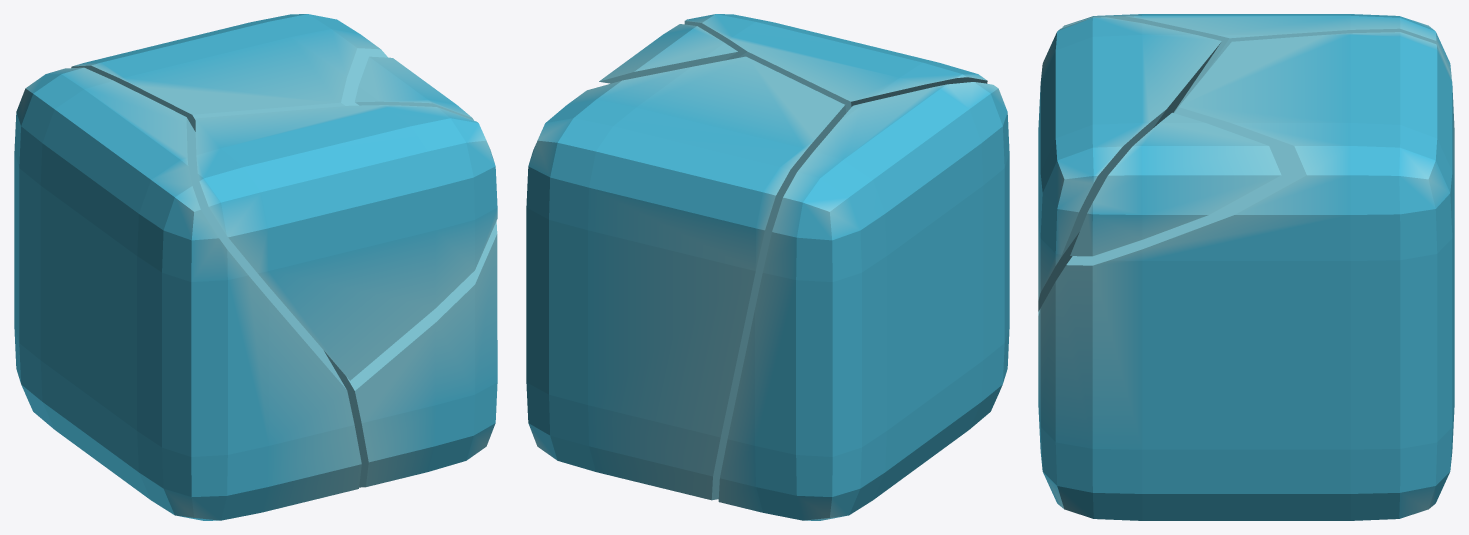
Rendered from iceCube3.fbx.
3 renders of one model, left to right at view 1: azimuth 30°, elevation 25°; view 2: azimuth 150°, elevation 25°; view 3: azimuth 270°, elevation 25°, orthographic. The views are drawn at different scales.
Parts seen in each view (by area): view 1: cube_80HP.001; view 2: cube_80HP.001; view 3: cube_80HP.001.
Part boxes in pixels (x1=…): cube_80HP.001: x1=14, y1=14, x2=497, y2=520; cube_80HP.001: x1=526, y1=14, x2=1009, y2=520; cube_80HP.001: x1=1038, y1=14, x2=1454, y2=520.
Size of the model in its own units: 100 by 100 by 100.
